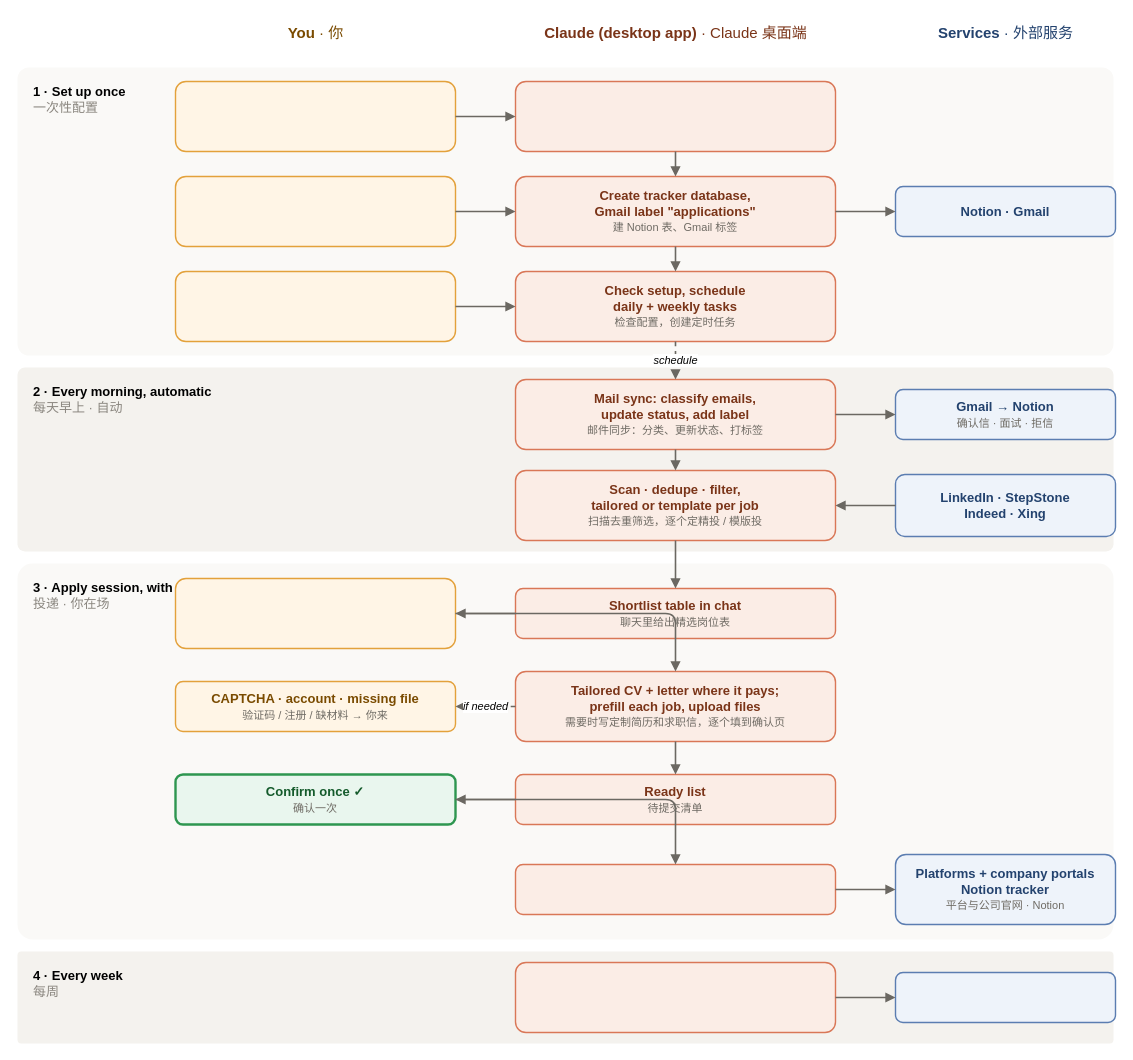
The diagram is 1133 pixels wide and 1060 high, and some of its shapes have lost their labels. The centre of each missing label's shape, as x and y in pixels:
Create Notion token + Gmail app password 创建 Notion token 与 Gmail 应用密码: point 315,211
Drop documents (no CV is fine), answer the questionnaire 上传材料（没有简历也行），回答问卷: point 315,116
Knowledge base, fact bank, profile; first CV if needed 建知识库、事实库与档案，必要时写简历: point 675,116
Log in to job sites in Claude's browser, allow uploads 在 Claude 浏览器登录各平台，开上传权限: point 315,306
Notion page · local dashboard: point 1005,997
Pick jobs ("1, 3, 5"), answer a few questions 选岗位，回答精投岗位的问题: point 315,613
Refresh charts + dashboard, back up your data 刷新图表与看板，备份个人数据: point 675,997
Submit all, log each row 全部提交并逐条记录: point 675,889
